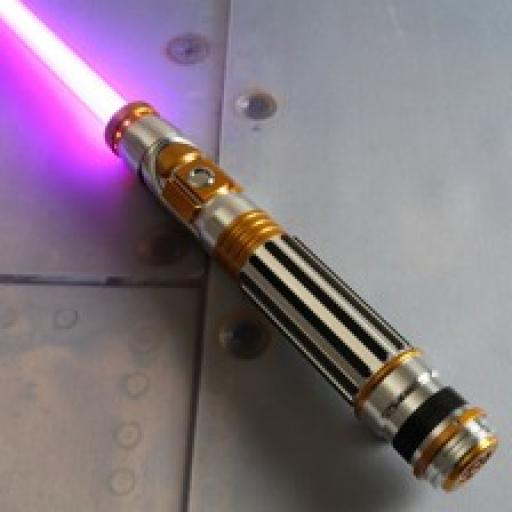lightsaber: (1, 1, 499, 494)
